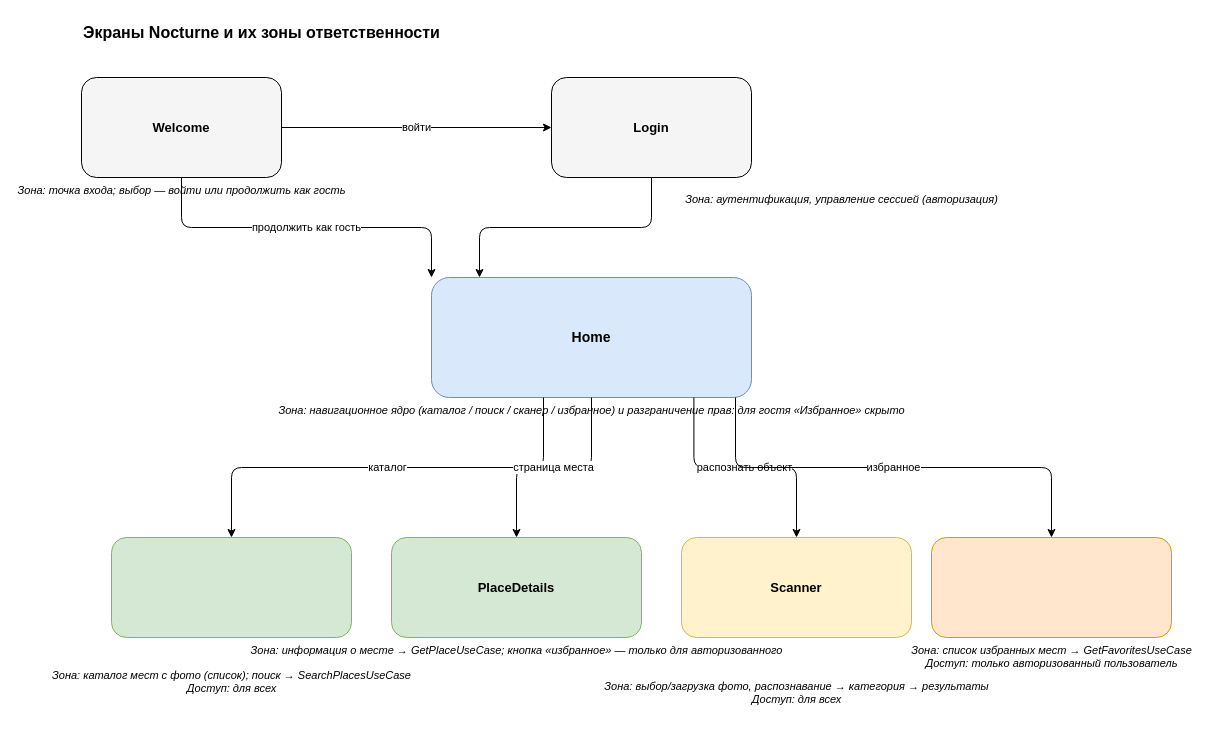
Image size: 1209x730. Some labels were removed from this diagram. Each missing label, with the box of its shape:
Favorites: (930, 536, 1172, 638)
PlacesList: (110, 536, 352, 638)
